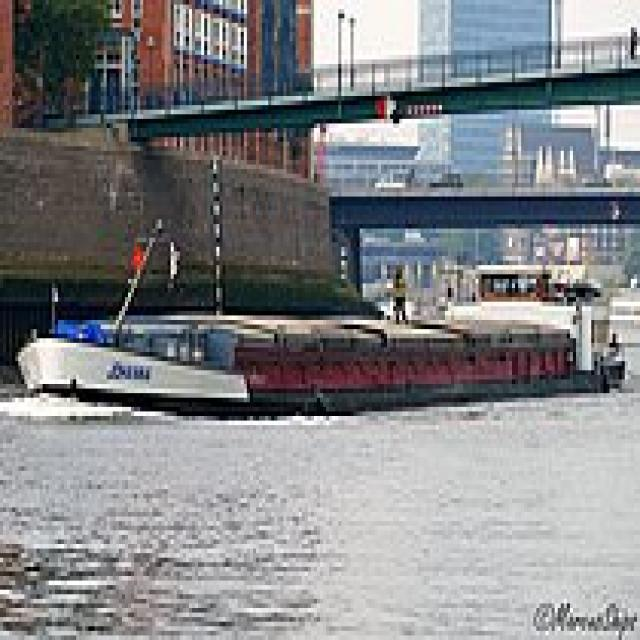Ship: (10, 280, 635, 427)
